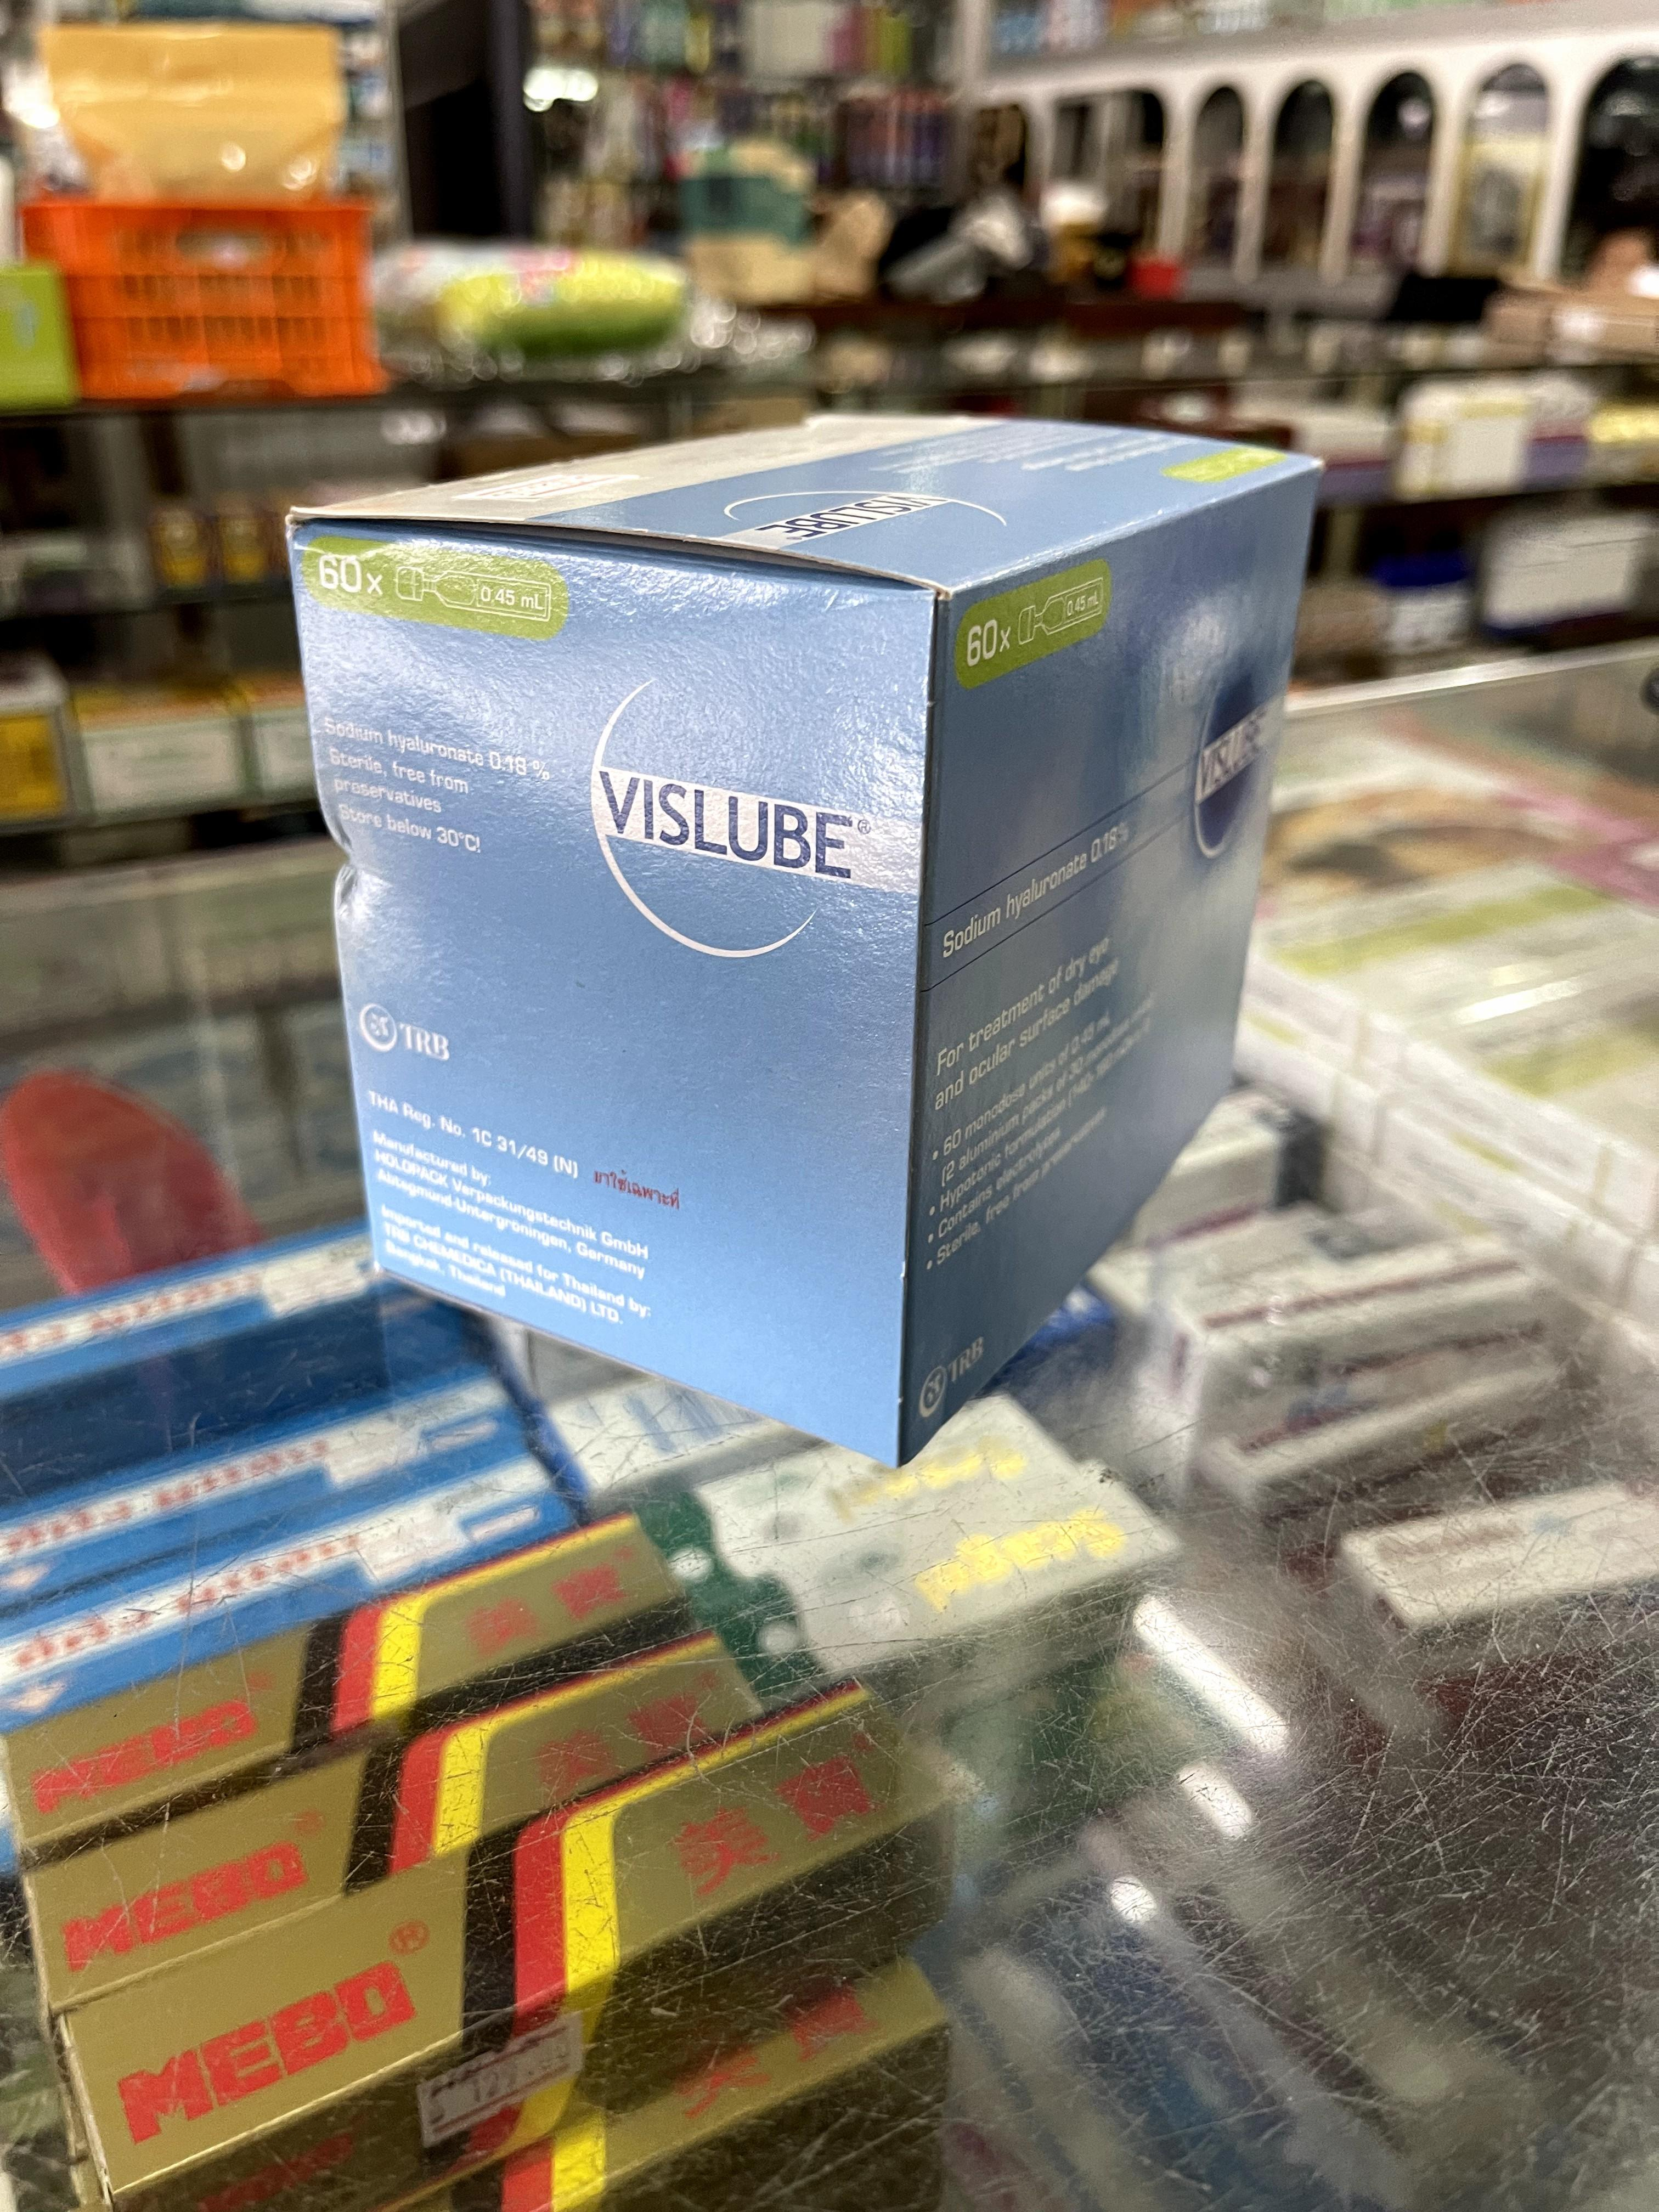Vislube60: (288, 415, 1324, 1474)
